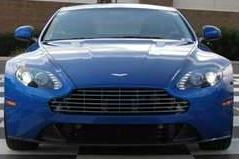front_view: (4, 57, 234, 145)
headlight: (176, 64, 227, 96)
